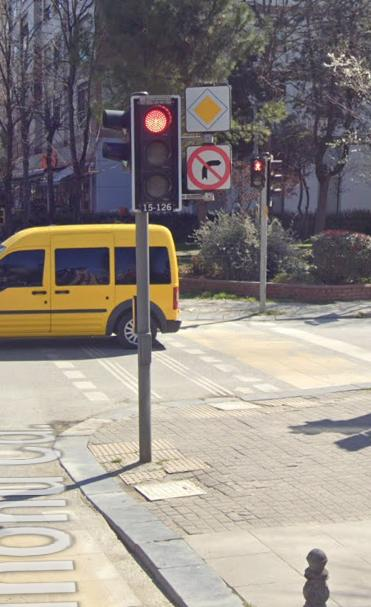redlight: (134, 93, 180, 210)
